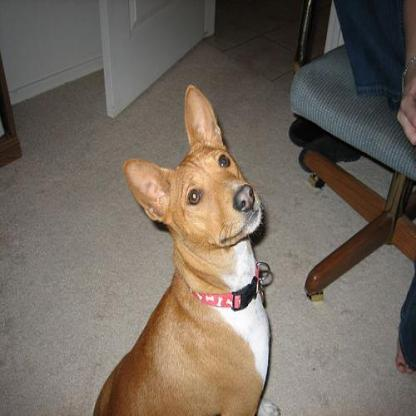basenji: (92, 84, 270, 414)
